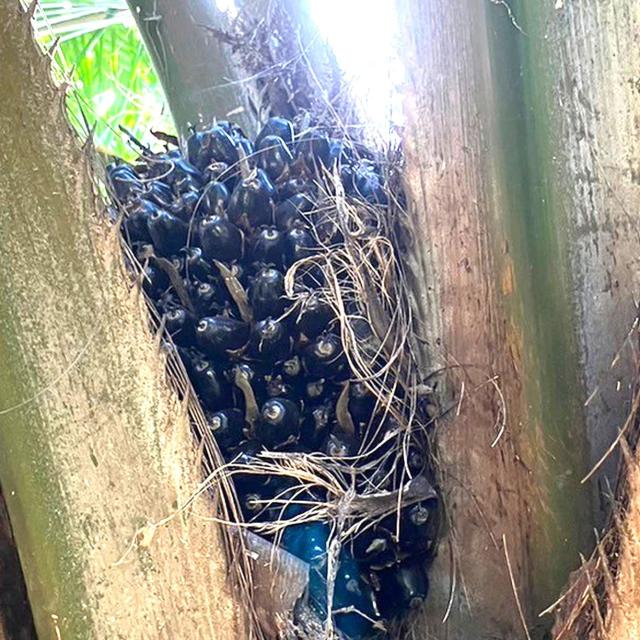unripe: (103, 114, 446, 604)
